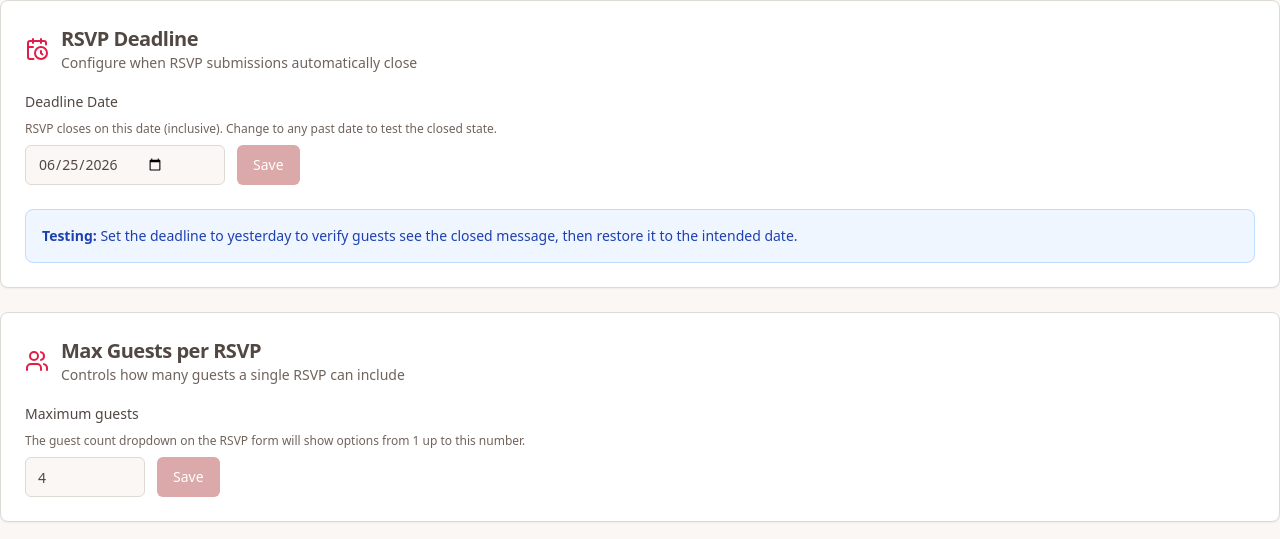
RsvpSettingsPage – max guests › save button is disabled when input is empty
Clear the number field with test id "input-rsvp-max-guests": (85, 477) [25,457,145,497]
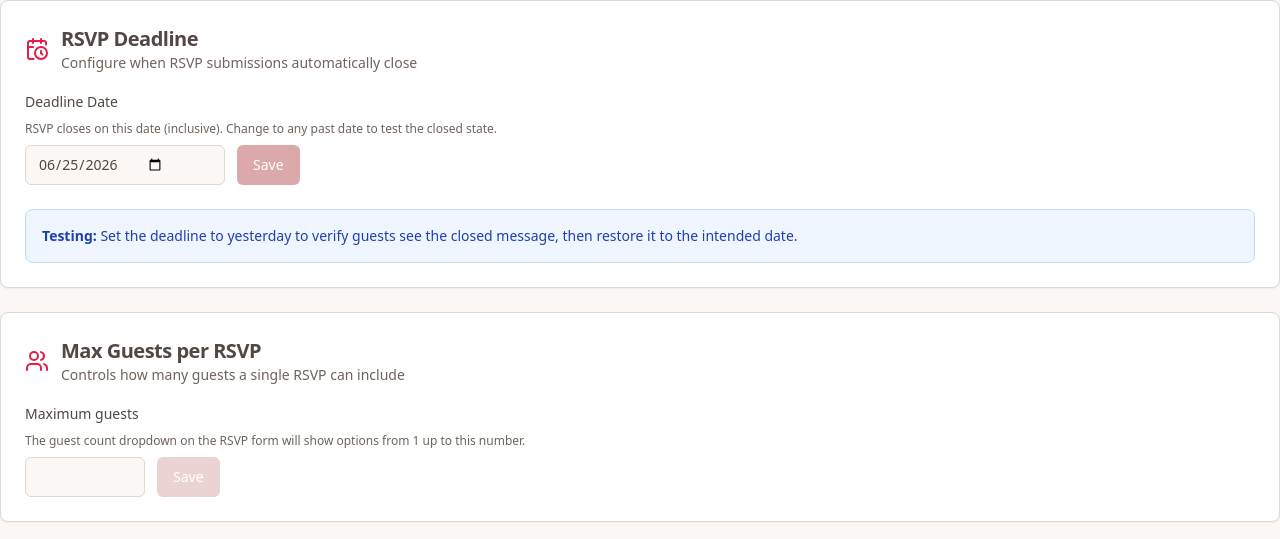
Expected: the button with test id "button-save-rsvp-max-guests" is disabled, [157,457,220,497]
